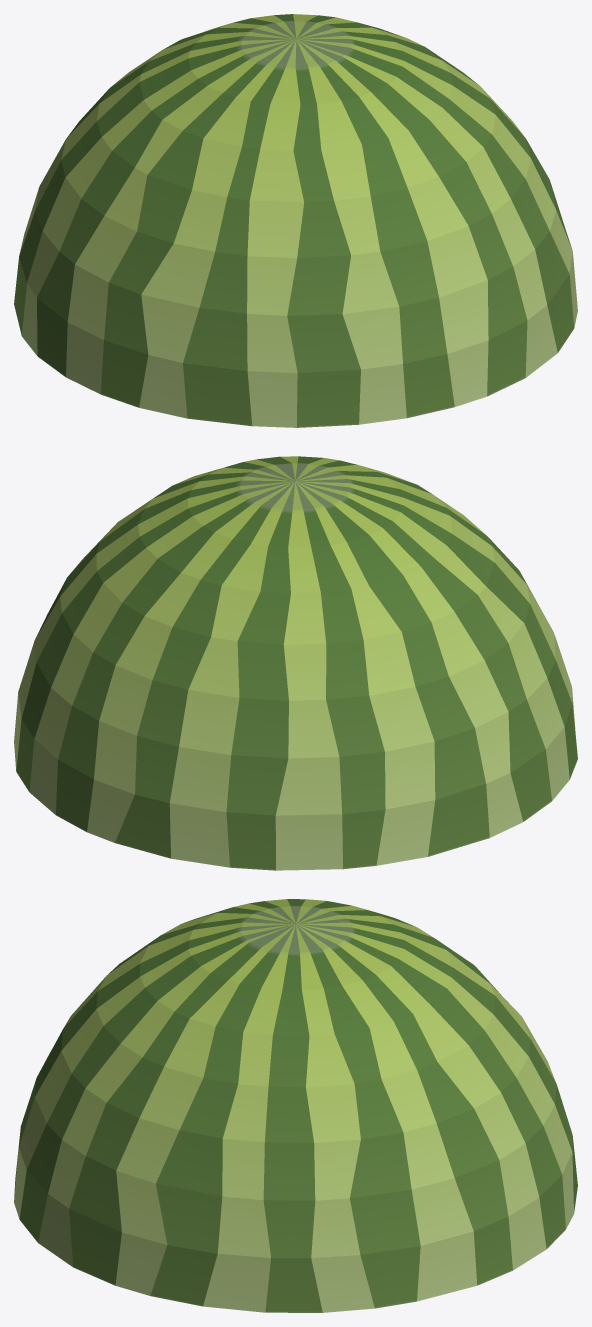
Rendered from SM_Food_Watermelon_Half.fbx.
3 renders of one model, top to bottom at view 1: azimuth 30°, elevation 25°; view 2: azimuth 150°, elevation 25°; view 3: azimuth 270°, elevation 25°, orthographic.
Parts seen in each view (by area): view 1: SM_Food_Watermelon_Half; view 2: SM_Food_Watermelon_Half; view 3: SM_Food_Watermelon_Half.
Part boxes in pixels (<box>): SM_Food_Watermelon_Half: <box>14,14,577,427</box>; SM_Food_Watermelon_Half: <box>14,456,577,870</box>; SM_Food_Watermelon_Half: <box>14,899,577,1312</box>.
Bounding box in the file's own units: 28.24 × 14.93 × 28.29.
